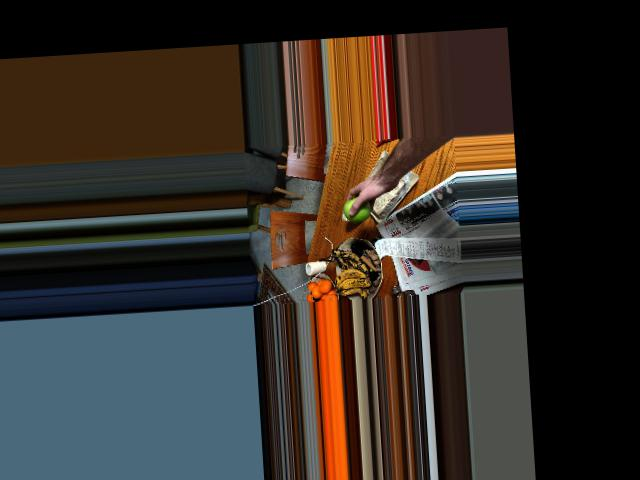apple: (342, 194, 371, 223)
